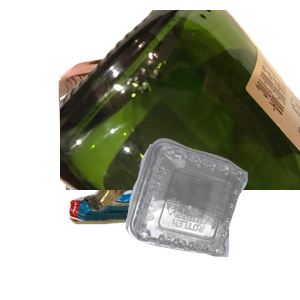glass: (60, 10, 300, 190)
metal: (56, 52, 242, 232)
plastic: (123, 136, 300, 300)
trash: (66, 173, 272, 300)
